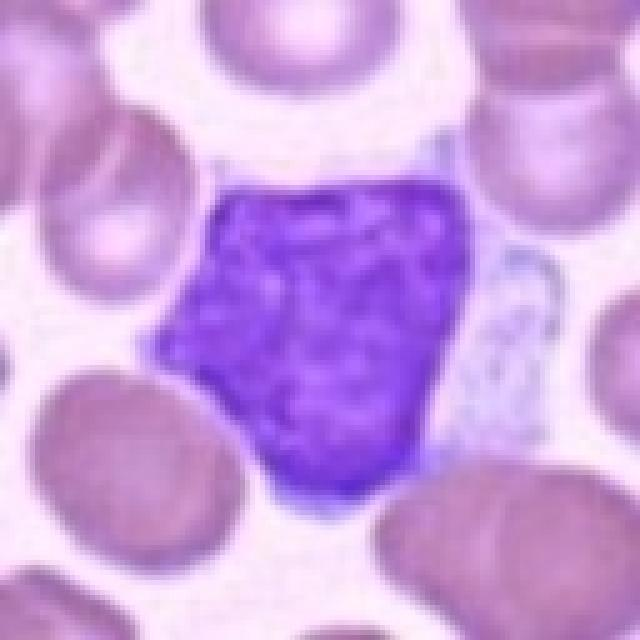lympho: (139, 121, 578, 517)
